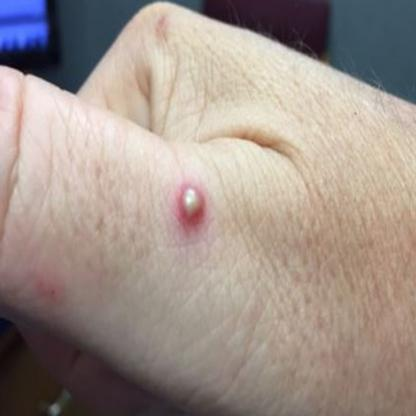Fire ant: (174, 181, 207, 225)
